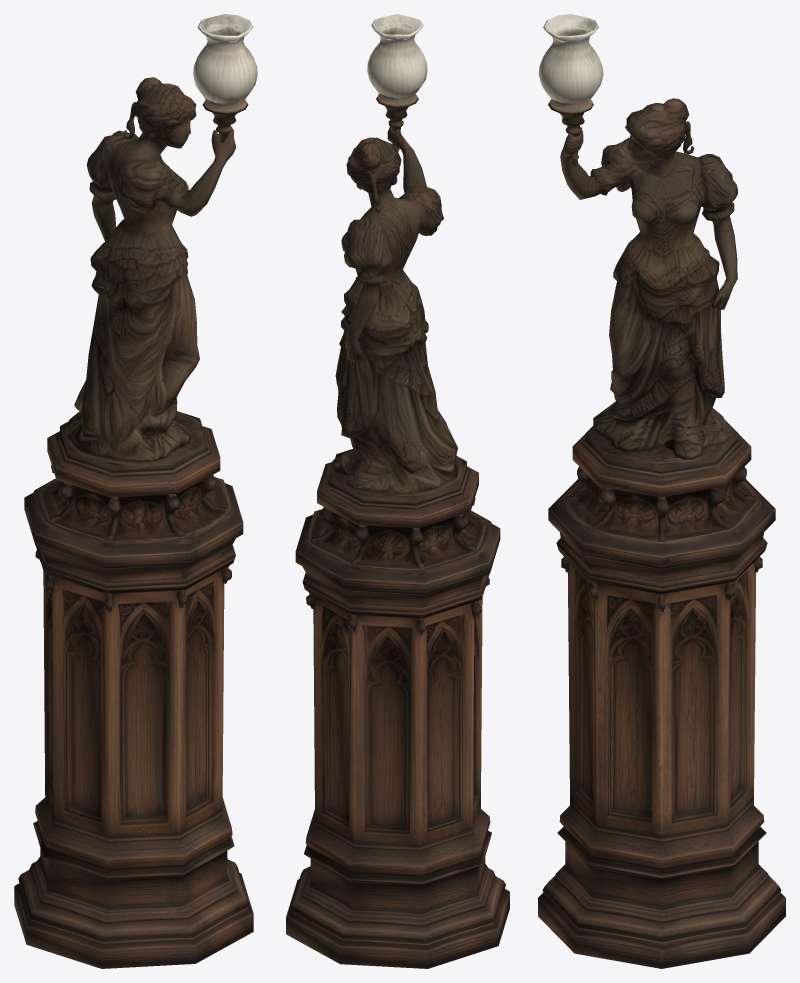
File: SM_Env_BaskervilleNewelPostLamp.fbx
3 renders of one model, left to right at view 1: azimuth 30°, elevation 25°; view 2: azimuth 150°, elevation 25°; view 3: azimuth 270°, elevation 25°, orthographic. The views are drawn at different scales.
Parts seen in each view (by area): view 1: SM_Env_BaskervilleNewelPostLamp; view 2: SM_Env_BaskervilleNewelPostLamp; view 3: SM_Env_BaskervilleNewelPostLamp.
Part boxes in pixels (<box>): SM_Env_BaskervilleNewelPostLamp: <box>14,14,257,968</box>; SM_Env_BaskervilleNewelPostLamp: <box>286,14,509,968</box>; SM_Env_BaskervilleNewelPostLamp: <box>538,14,785,968</box>.
Bounding box in the file's own units: 13.27 × 13.27 × 54.
1 material, 1 textured.
